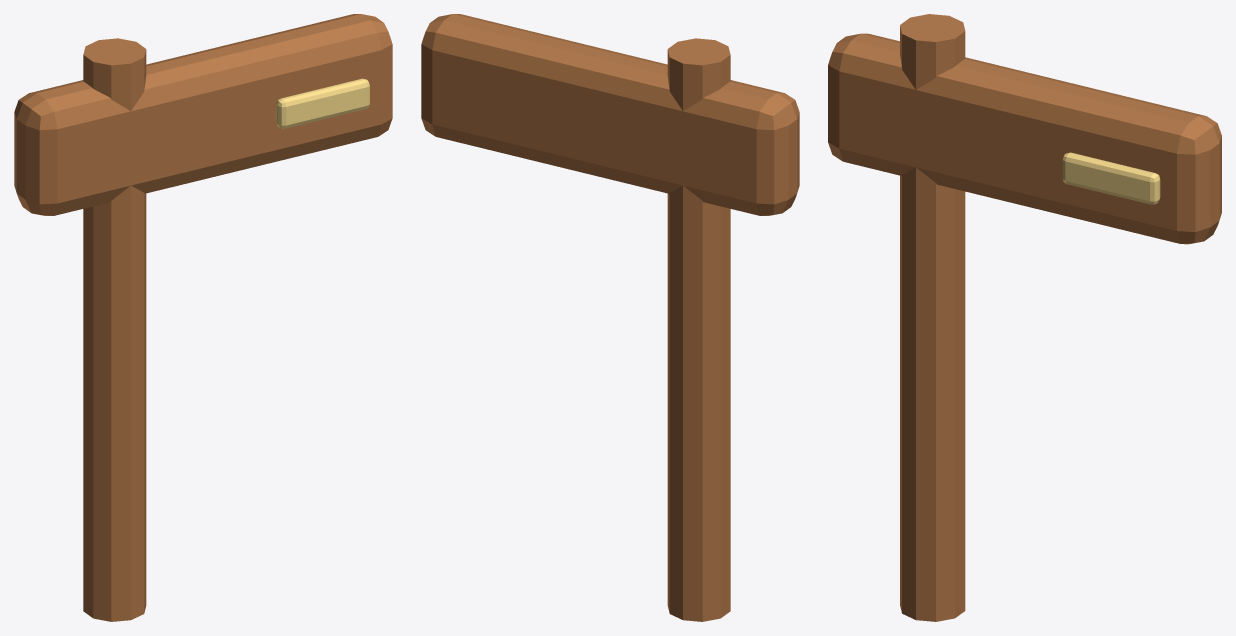
File: TrailSign.fbx
3 renders of one model, left to right at view 1: azimuth 30°, elevation 25°; view 2: azimuth 150°, elevation 25°; view 3: azimuth 330°, elevation 25°, orthographic. The views are drawn at different scales.
Parts seen in each view (by area): view 1: ArrowBoard, Post, ArrowAccent; view 2: ArrowBoard, Post; view 3: ArrowBoard, Post, ArrowAccent.
Boxes of the visible parts, box(x1,y1,x2,y2) form: ArrowBoard: box(14, 14, 392, 215); Post: box(83, 38, 146, 621); ArrowAccent: box(276, 78, 369, 128); ArrowBoard: box(421, 14, 799, 215); Post: box(667, 38, 730, 621); ArrowBoard: box(828, 33, 1221, 244); Post: box(900, 14, 965, 621); ArrowAccent: box(1062, 152, 1160, 204).
Bounding box in the file's own units: 144 × 210 × 26.
